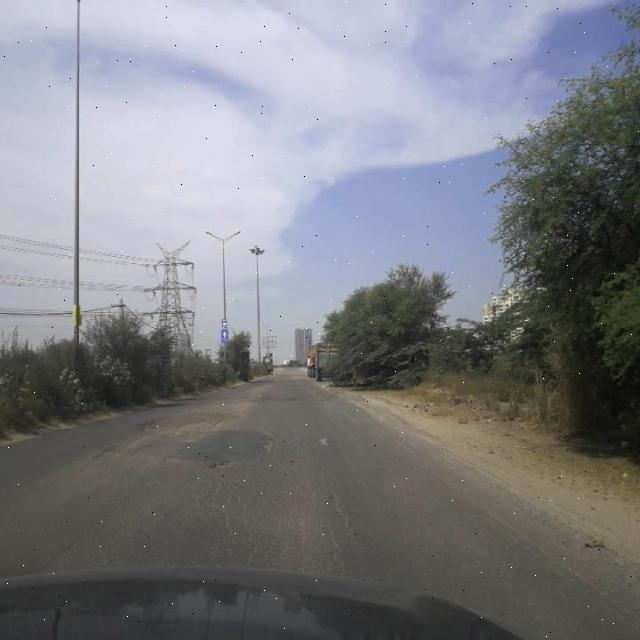D00: (467, 492, 632, 618), (53, 449, 170, 566)
D20: (132, 436, 362, 578)
D40: (136, 401, 225, 438), (212, 452, 244, 472)
